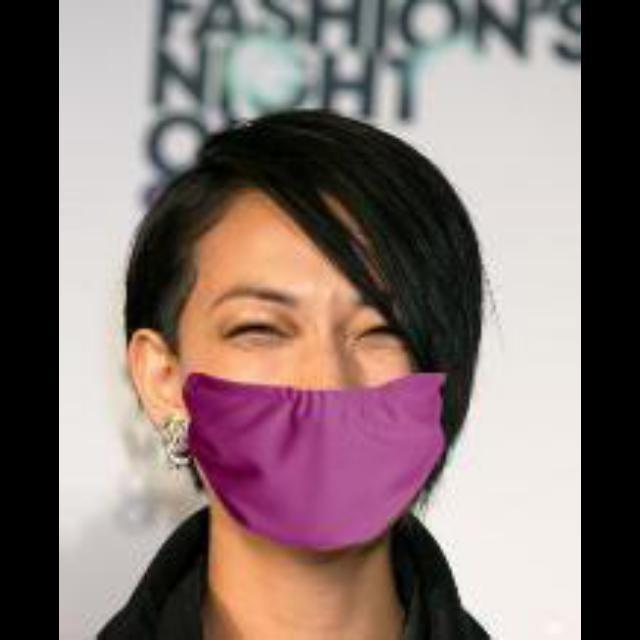suspicion: (175, 146, 471, 542)
